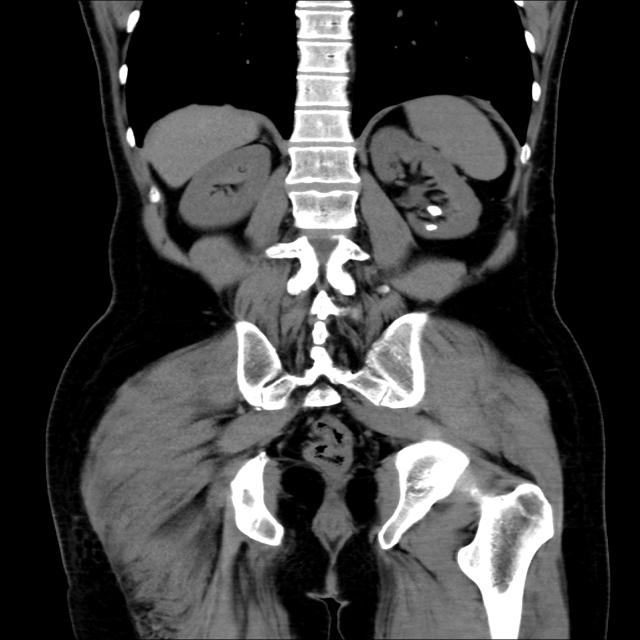kidneystone: (426, 205, 441, 216), (425, 224, 438, 231)
